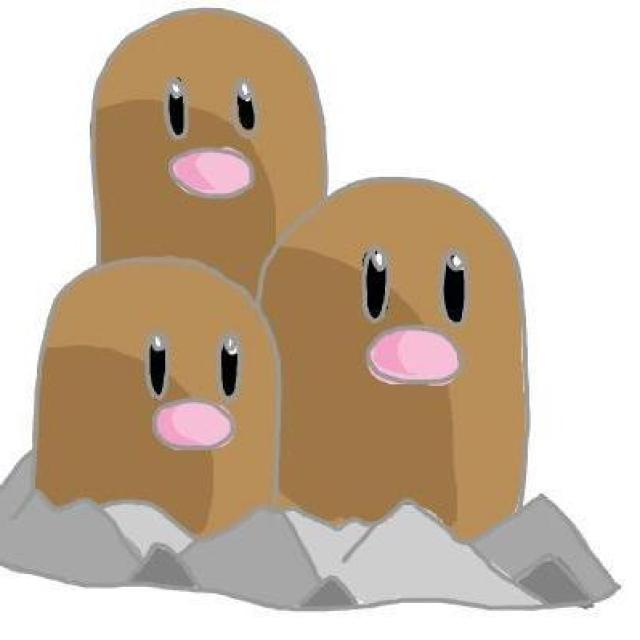Dugtrio: (22, 9, 534, 525)
